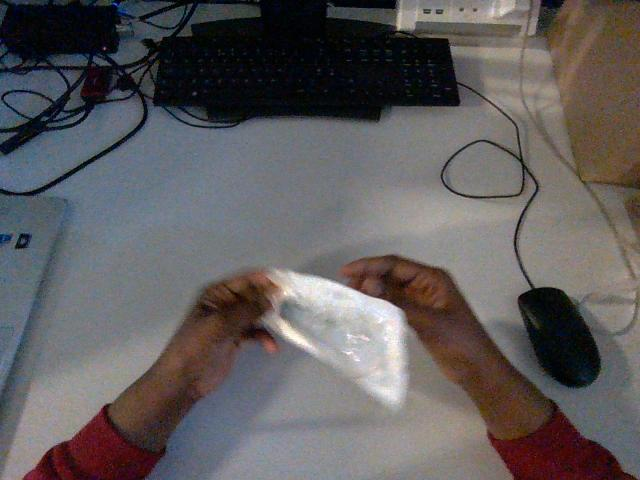syringe: (263, 269, 407, 407)
